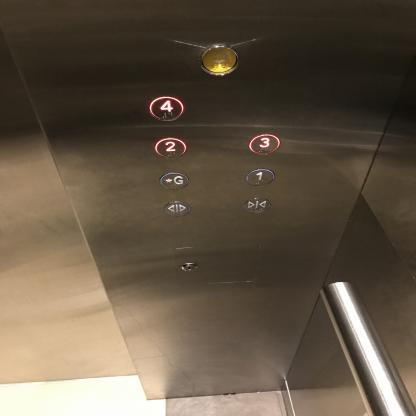1: (244, 167, 276, 187)
2: (153, 136, 187, 158)
3: (248, 133, 281, 155)
4: (148, 96, 184, 122)
alarm: (199, 43, 240, 76)
close: (240, 196, 272, 214)
open: (160, 200, 192, 218)
sG: (158, 171, 190, 191)
